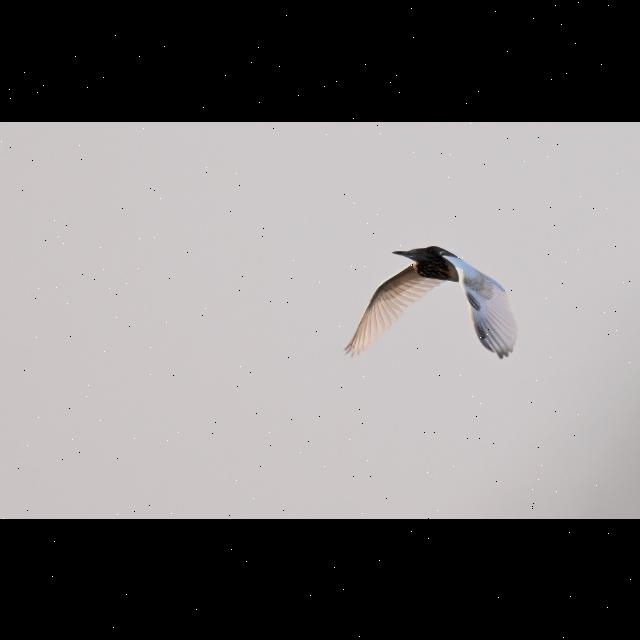heron: (339, 240, 521, 370)
